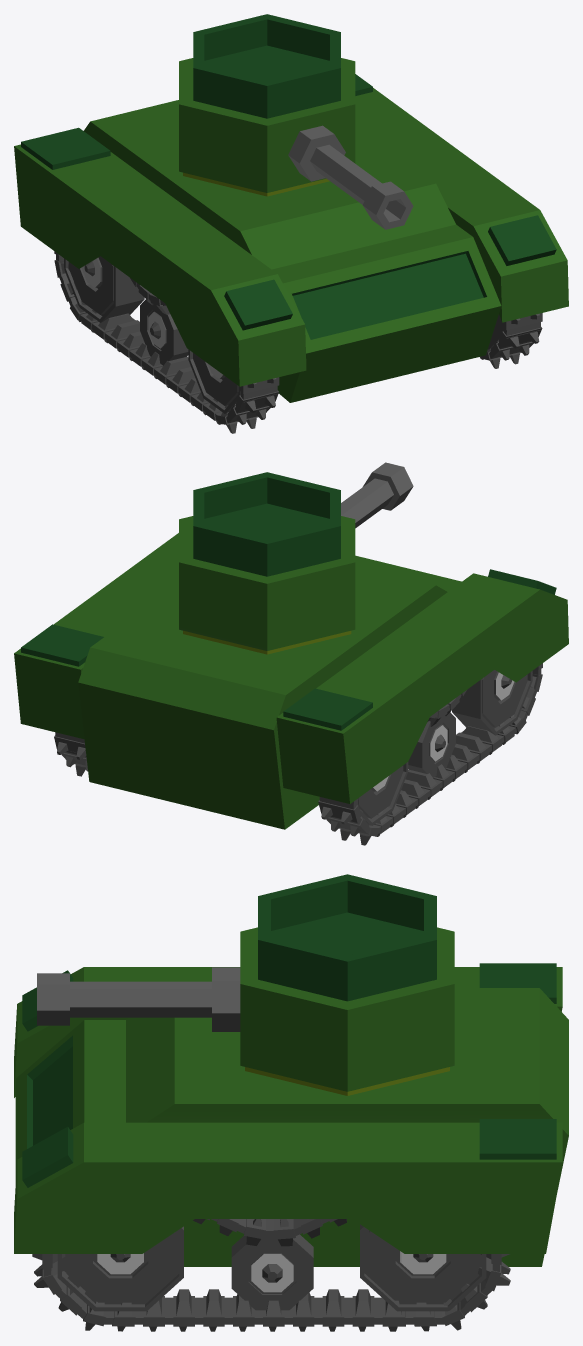
Rendered from proto_tank_static.fbx.
3 views of the same model, one above another, from view 1: azimuth 30°, elevation 25°; view 2: azimuth 150°, elevation 25°; view 3: azimuth 270°, elevation 25° (orthographic). The views are drawn at different scales.
Visible parts, largest first — view 1: 機体; view 2: 機体; view 3: 機体.
Boxes of the visible parts, x1,y1,x2,y2 form: 機体: (14,14,568,433); 機体: (14,462,568,845); 機体: (14,874,568,1331).
Bounding box in the file's own units: 135 × 162 × 106.
